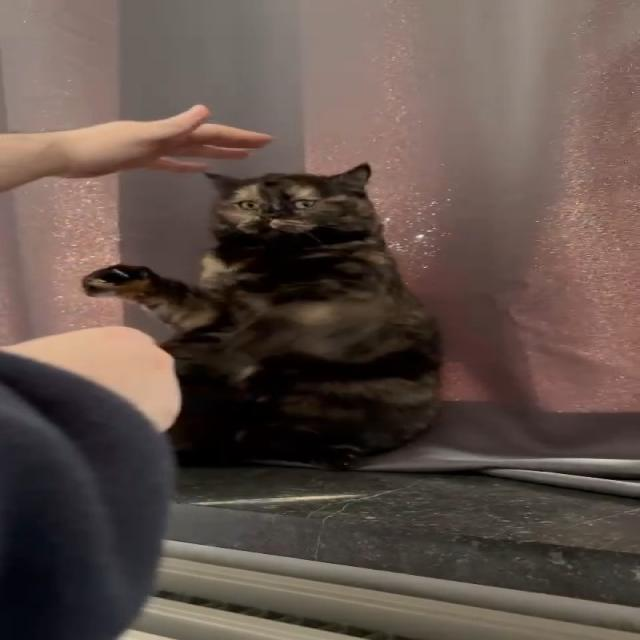authorized: (80, 161, 445, 470)
